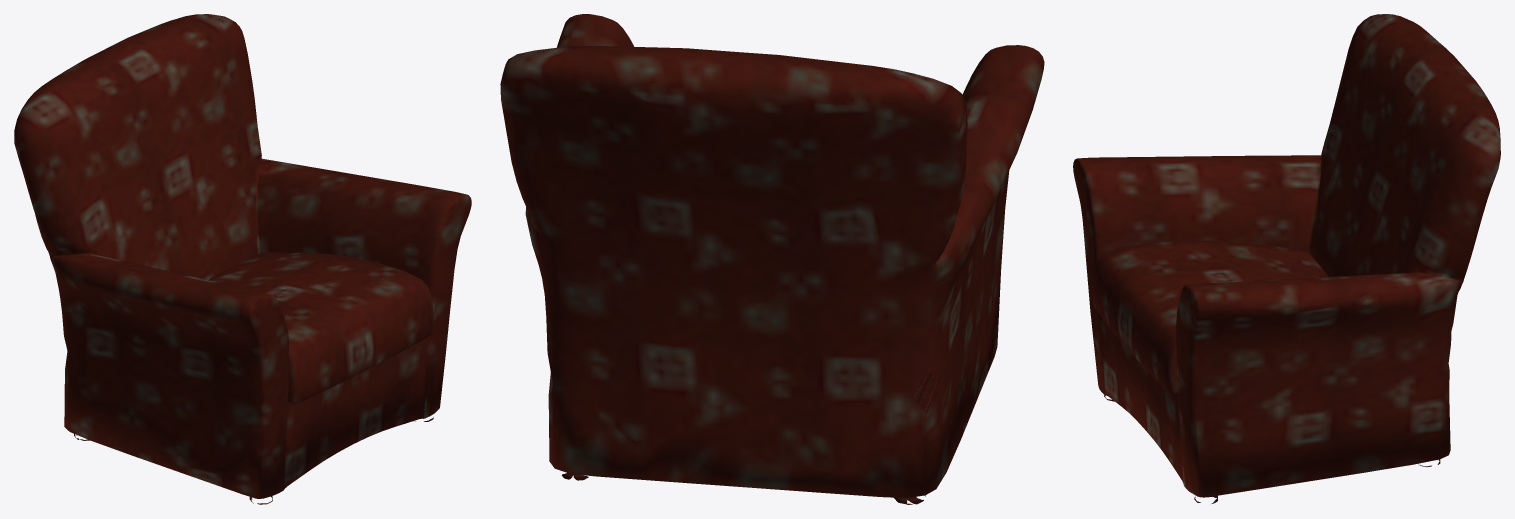
The model's file is sofa done.fbx.
3 renders of one model, left to right at view 1: azimuth 30°, elevation 25°; view 2: azimuth 150°, elevation 25°; view 3: azimuth 270°, elevation 25°, orthographic. The views are drawn at different scales.
Parts seen in each view (by area): view 1: sofa; view 2: sofa; view 3: sofa.
Part boxes in pixels (<box>): sofa: <box>14,14,471,504</box>; sofa: <box>500,14,1044,504</box>; sofa: <box>1073,14,1500,503</box>.
Size of the model in its own units: 1.28 by 1.1 by 1.24.
